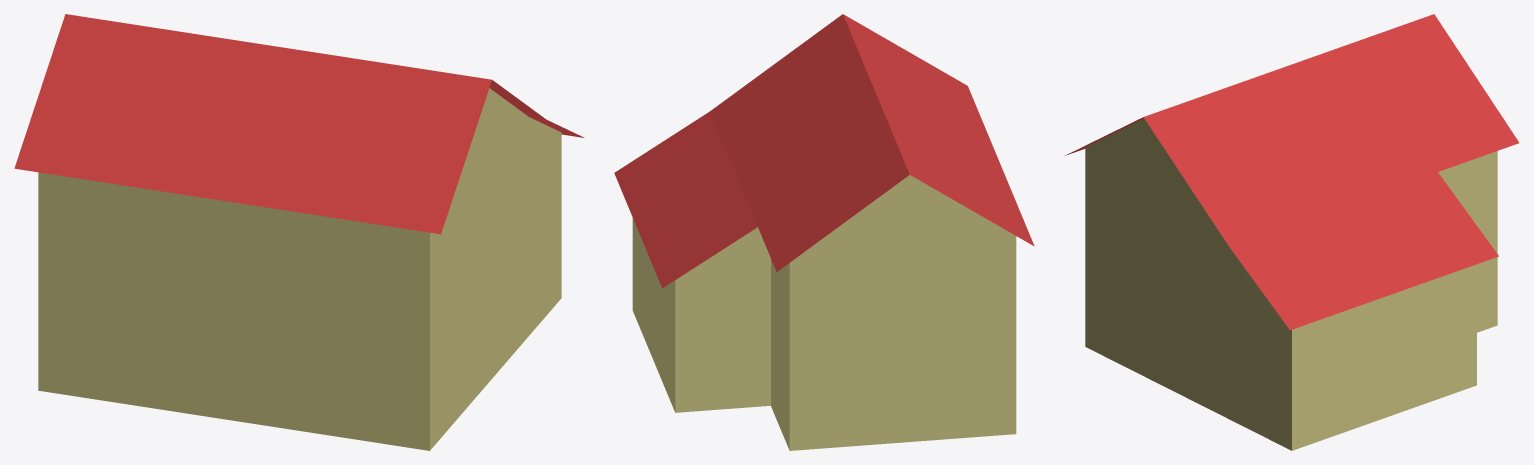
3 renders of one model, left to right at view 1: azimuth 30°, elevation 25°; view 2: azimuth 150°, elevation 25°; view 3: azimuth 270°, elevation 25°, orthographic. The views are drawn at different scales.
Size of the model in its own units: 24.55 by 21.79 by 14.19.
